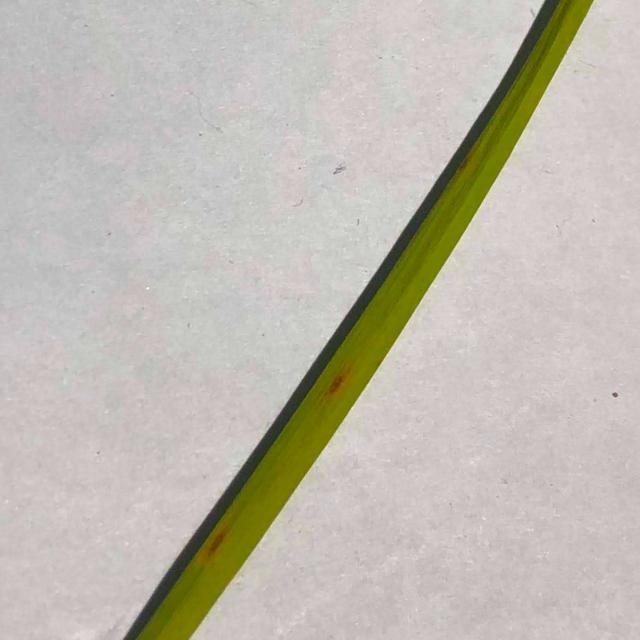brownspots: (188, 520, 238, 580), (314, 360, 356, 405)
